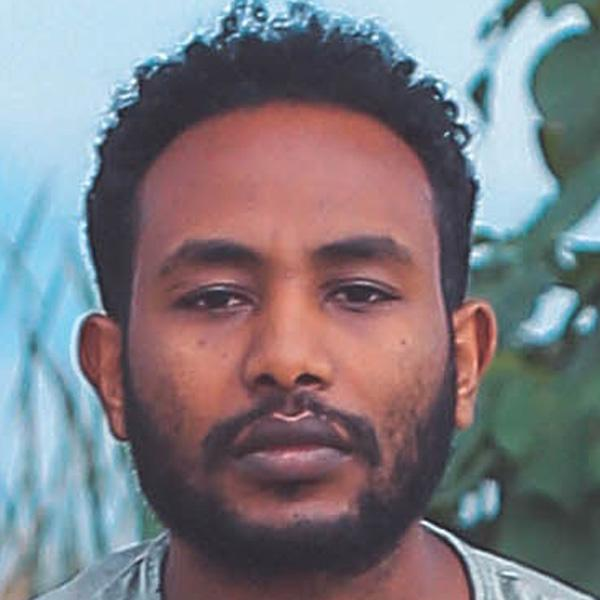Eyes: (168, 271, 268, 326), (317, 270, 409, 318)
